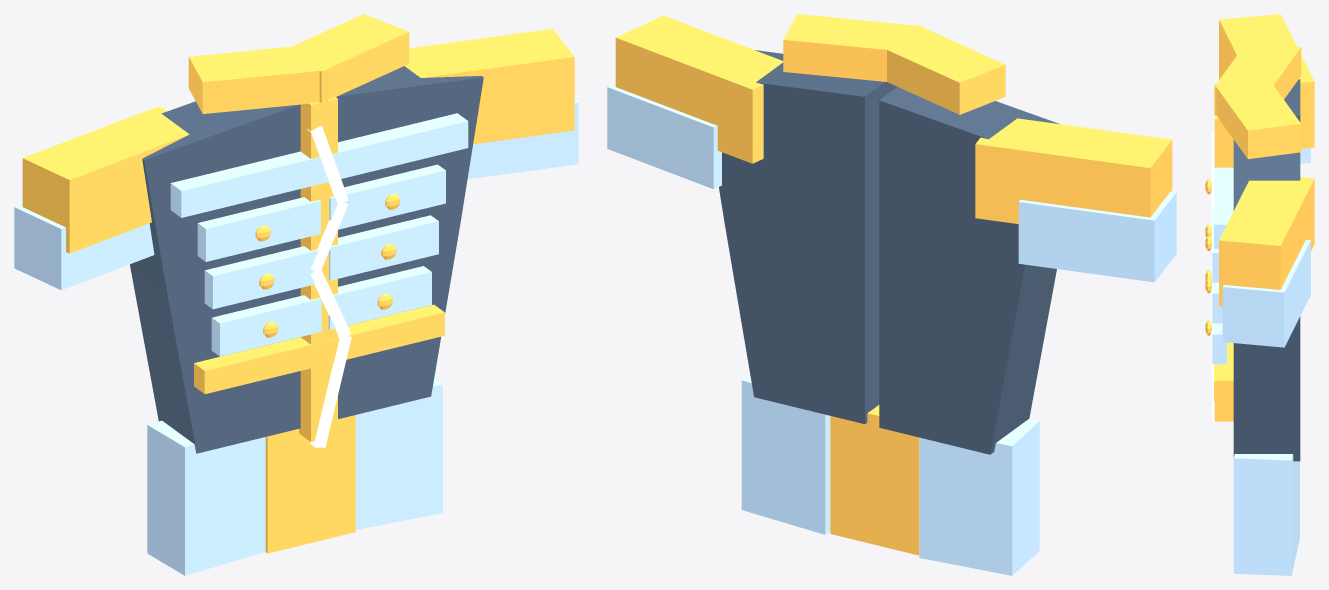
Rendered from effect-armor-break.glb.
3 renders of one model, left to right at view 1: azimuth 30°, elevation 25°; view 2: azimuth 150°, elevation 25°; view 3: azimuth 270°, elevation 25°, orthographic. The views are drawn at different scales.
Parts seen in each view (by area): view 1: ArmorBreak_BreastplateLeft, ArmorBreak_BreastplateRight, ArmorBreak_Tasset_1, ArmorBreak_PauldronLeft_1, ArmorBreak_PauldronRight_1, ArmorBreak_UpperBand, ArmorBreak_Tasset_3, ArmorBreak_Tasset_2, ArmorBreak_LowerBand, ArmorBreak_GorgetLeft, ArmorBreak_PauldronLeft_2, ArmorBreak_GorgetRight (+12 smaller); view 2: ArmorBreak_BreastplateLeft, ArmorBreak_BreastplateRight, ArmorBreak_PauldronLeft_1, ArmorBreak_Tasset_1, ArmorBreak_PauldronRight_1, ArmorBreak_Tasset_2, ArmorBreak_Tasset_3, ArmorBreak_PauldronLeft_2, ArmorBreak_PauldronRight_2, ArmorBreak_GorgetLeft, ArmorBreak_GorgetRight; view 3: ArmorBreak_BreastplateRight, ArmorBreak_PauldronRight_1, ArmorBreak_Tasset_3, ArmorBreak_PauldronRight_2, ArmorBreak_GorgetRight, ArmorBreak_PauldronLeft_1, ArmorBreak_GorgetLeft, ArmorBreak_UpperBand, ArmorBreak_CenterRidge, ArmorBreak_LowerBand, ArmorBreak_Lamella_3_Right, ArmorBreak_BreastplateLeft (+5 smaller).
Boxes of the visible parts, left/top/right/bottom form: ArmorBreak_BreastplateLeft: left=130, top=101, right=300, bottom=453; ArmorBreak_BreastplateRight: left=336, top=66, right=483, bottom=418; ArmorBreak_Tasset_1: left=147, top=420, right=265, bottom=575; ArmorBreak_PauldronLeft_1: left=22, top=106, right=189, bottom=253; ArmorBreak_PauldronRight_1: left=405, top=28, right=574, bottom=144; ArmorBreak_UpperBand: left=170, top=113, right=468, bottom=217; ArmorBreak_Tasset_3: left=355, top=377, right=442, bottom=529; ArmorBreak_Tasset_2: left=265, top=415, right=355, bottom=553; ArmorBreak_LowerBand: left=194, top=304, right=444, bottom=393; ArmorBreak_GorgetLeft: left=188, top=44, right=327, bottom=113; ArmorBreak_PauldronLeft_2: left=14, top=204, right=154, bottom=290; ArmorBreak_GorgetRight: left=276, top=14, right=409, bottom=103; ArmorBreak_BreastplateLeft: left=879, top=87, right=1059, bottom=454; ArmorBreak_BreastplateRight: left=719, top=50, right=897, bottom=423; ArmorBreak_PauldronLeft_1: left=975, top=118, right=1172, bottom=223; ArmorBreak_Tasset_1: left=919, top=419, right=1039, bottom=575; ArmorBreak_PauldronRight_1: left=615, top=15, right=783, bottom=163; ArmorBreak_Tasset_2: left=830, top=405, right=919, bottom=555; ArmorBreak_Tasset_3: left=741, top=375, right=830, bottom=534; ArmorBreak_PauldronLeft_2: left=1018, top=191, right=1176, bottom=282; ArmorBreak_PauldronRight_2: left=607, top=83, right=721, bottom=189; ArmorBreak_GorgetLeft: left=872, top=25, right=1005, bottom=114; ArmorBreak_GorgetRight: left=783, top=14, right=923, bottom=81; ArmorBreak_BreastplateRight: left=1233, top=140, right=1300, bottom=461; ArmorBreak_PauldronRight_1: left=1219, top=177, right=1314, bottom=306; ArmorBreak_Tasset_3: left=1233, top=454, right=1299, bottom=575; ArmorBreak_PauldronRight_2: left=1222, top=239, right=1310, bottom=347; ArmorBreak_GorgetRight: left=1214, top=78, right=1301, bottom=159; ArmorBreak_PauldronLeft_1: left=1219, top=14, right=1314, bottom=148; ArmorBreak_GorgetLeft: left=1214, top=40, right=1301, bottom=114; ArmorBreak_UpperBand: left=1214, top=99, right=1233, bottom=248; ArmorBreak_CenterRidge: left=1214, top=115, right=1233, bottom=421; ArmorBreak_LowerBand: left=1214, top=342, right=1233, bottom=401; ArmorBreak_Lamella_3_Right: left=1212, top=323, right=1226, bottom=364; ArmorBreak_BreastplateLeft: left=1284, top=79, right=1300, bottom=121.
Bounding box in the file's own units: 0.927 × 0.786 × 0.1805.
